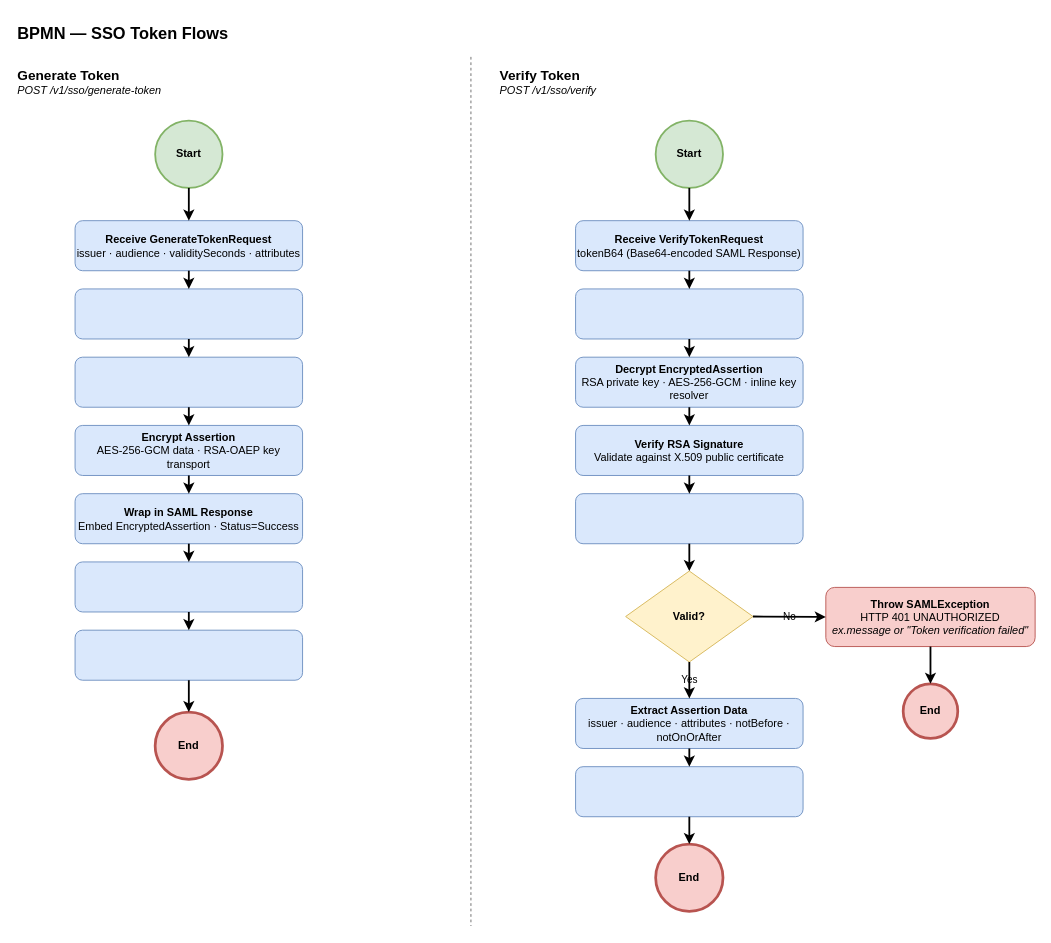
Image size: 1051x943. Some labels were removed from this diagram. Each missing label, with the centre of its shape:
Base64 Decode & Parse SAML XML Reconstruct SAML Response object via ParserPool: the point at 689,313
Build SAML Assertion XML Issuer · Subject · Conditions · AttributeStatement: the point at 188,313
Return GenerateTokenResponse token (Base64) · tokenType=SAML2.0 · expiresAt: the point at 188,654
Return VerifyTokenResponse issuer · audience · attributes · timestamps: the point at 689,791
Serialize & Base64 Encode Marshal Response XML → UTF-8 → Base64: the point at 188,586
Sign Assertion RSA-SHA256 · C14N Excl · private key: the point at 188,381
Validate Time Conditions Check NotBefore and NotOnOrAfter against clock: the point at 689,518
